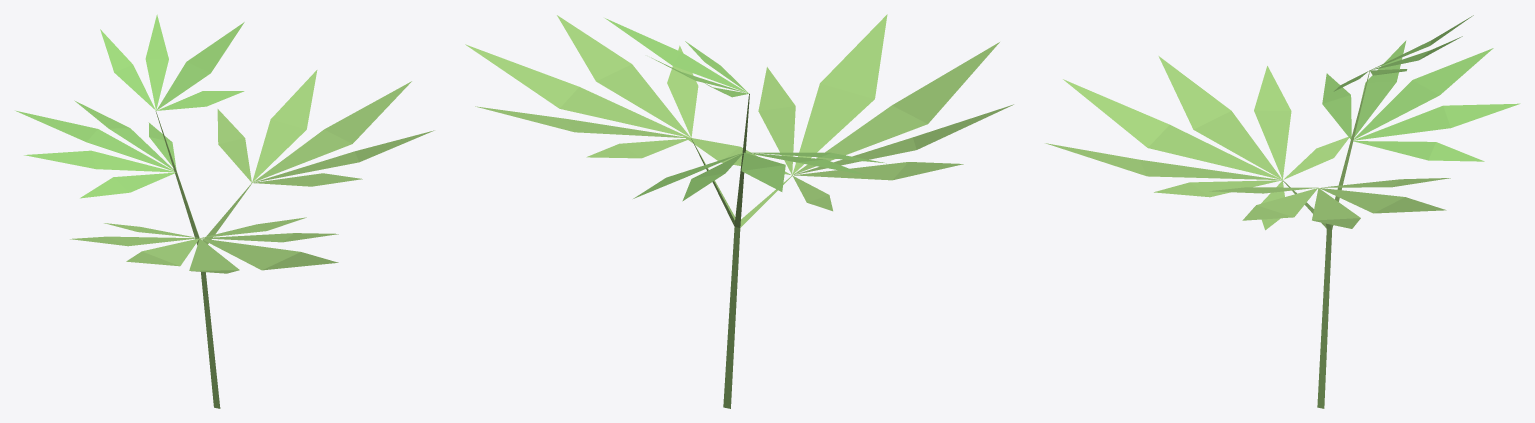
The model's file is Plant_i_OneS_02.fbx.
The picture shows the model from 3 angles, left to right: view 1: azimuth 30°, elevation 25°; view 2: azimuth 150°, elevation 25°; view 3: azimuth 270°, elevation 25°; orthographic projection. The views are drawn at different scales.
Parts seen in each view (by area): view 1: Plant_i_OneS_02; view 2: Plant_i_OneS_02; view 3: Plant_i_OneS_02.
Part boxes in pixels (x1,y1,x2,y2): Plant_i_OneS_02: (15, 14, 434, 408); Plant_i_OneS_02: (465, 14, 1013, 408); Plant_i_OneS_02: (1045, 15, 1520, 408).
Size of the model in its own units: 0.5371 by 0.4614 by 0.5325.
